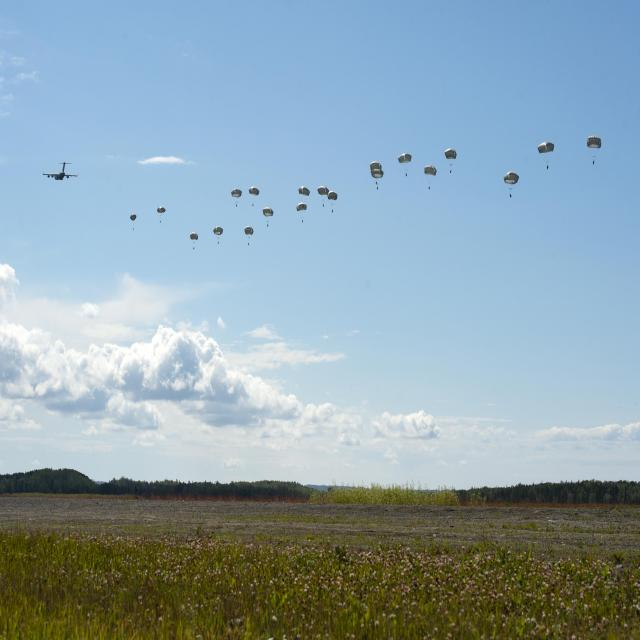MIL_Plane: (42, 158, 78, 176)
